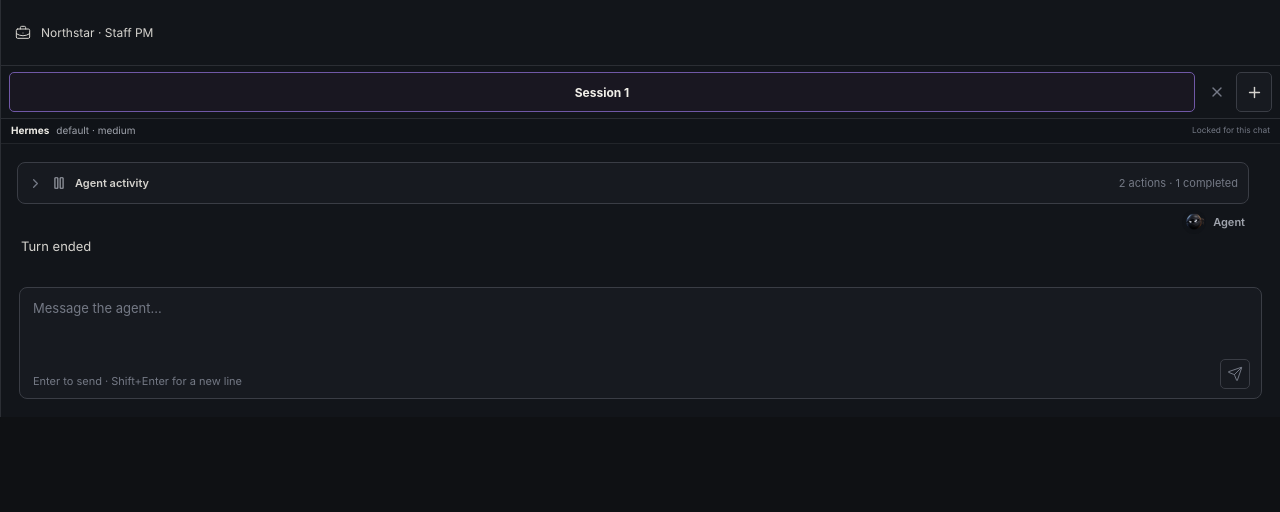
Test case: a completed turn has no unfinished activity spinner
Click the button with aria-label "Show agent activity:" at (112, 183), box [18, 163, 1248, 203]
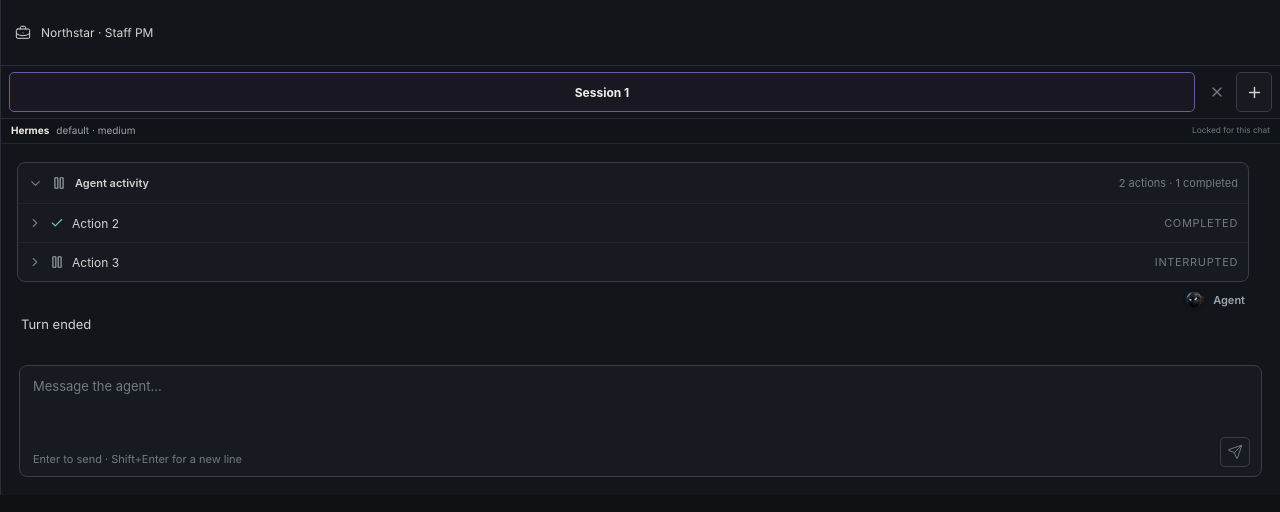
Expected: the number of elements with test id "agent-activity-row" is 2, [18, 204, 1248, 242]; [18, 242, 1248, 281]
